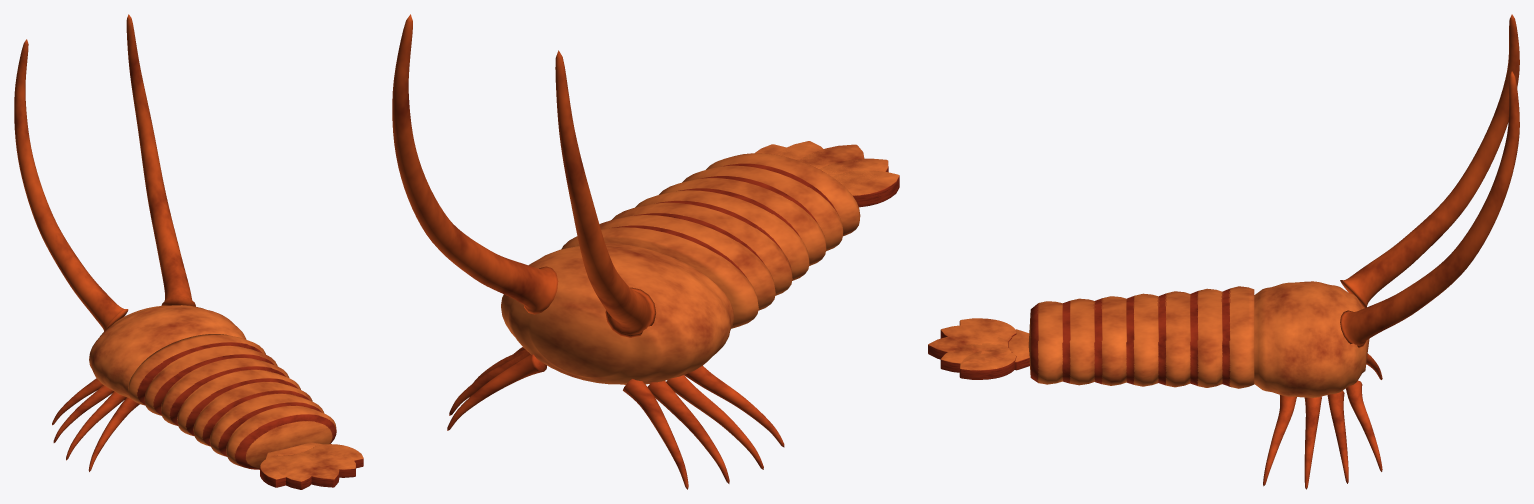
3 renders of one model, left to right at view 1: azimuth 30°, elevation 25°; view 2: azimuth 150°, elevation 25°; view 3: azimuth 270°, elevation 25°, orthographic. The views are drawn at different scales.
Parts seen in each view (by area): view 1: abdomen_chain, long_antenna, cephalothorax_shell, tail_fan, walking_leg_bank; view 2: abdomen_chain, cephalothorax_shell, long_antenna, walking_leg_bank, tail_fan; view 3: abdomen_chain, long_antenna, cephalothorax_shell, tail_fan, walking_leg_bank.
Boxes of the visible parts, x1,y1,x2,y2 form: abdomen_chain: (128,334,336,469); long_antenna: (14,14,195,331); cephalothorax_shell: (89,305,246,398); tail_fan: (260,442,363,489); walking_leg_bank: (52,378,139,471); abdomen_chain: (561,153,860,328); cephalothorax_shell: (501,243,734,384); long_antenna: (392,14,655,337); walking_leg_bank: (447,347,784,489); tail_fan: (755,141,899,207); abdomen_chain: (1028,286,1254,388); long_antenna: (1340,14,1519,347); cephalothorax_shell: (1254,281,1369,397); tail_fan: (928,318,1029,379); walking_leg_bank: (1263,353,1382,489).
Size of the model in its own units: 4.54 by 7.29 by 10.01.
7 materials, 7 textured.
